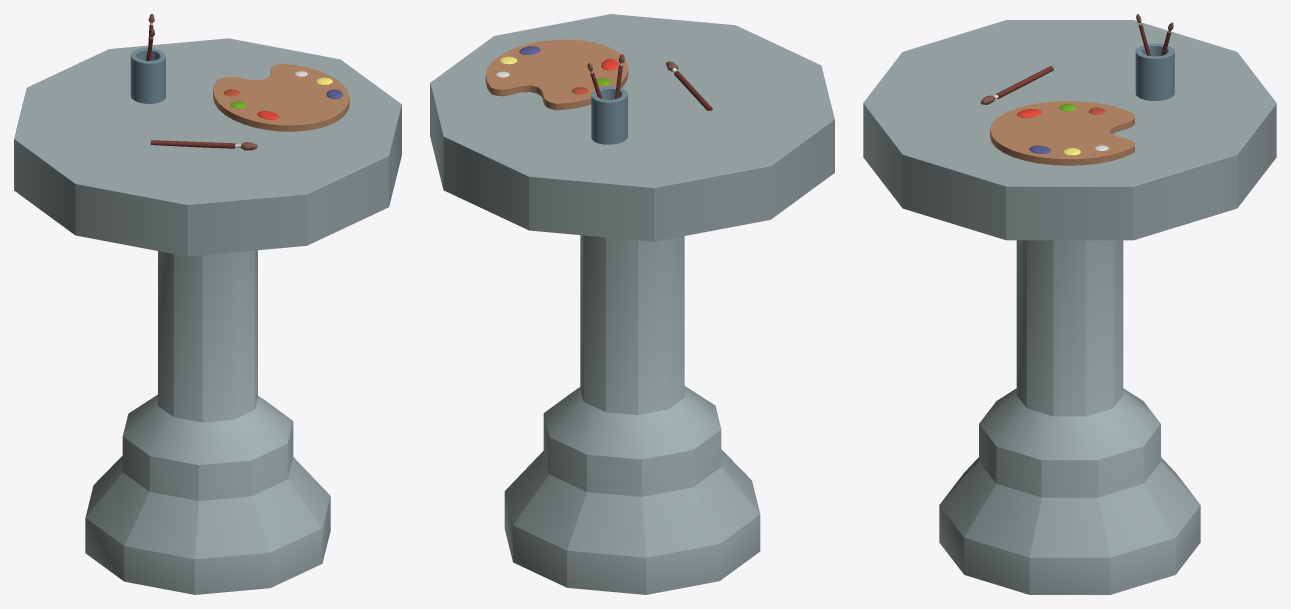
File: painting supplies.fbx
3 renders of one model, left to right at view 1: azimuth 30°, elevation 25°; view 2: azimuth 150°, elevation 25°; view 3: azimuth 270°, elevation 25°, orthographic. The views are drawn at different scales.
Visible parts, largest first — view 1: Circle.001; view 2: Circle.001; view 3: Circle.001.
Part boxes in pixels (left/top/right/bottom): Circle.001: left=14, top=14, right=401, bottom=594; Circle.001: left=430, top=14, right=834, bottom=594; Circle.001: left=863, top=14, right=1276, bottom=594.
Bounding box in the file's own units: 28.83 × 41.75 × 30.3.
